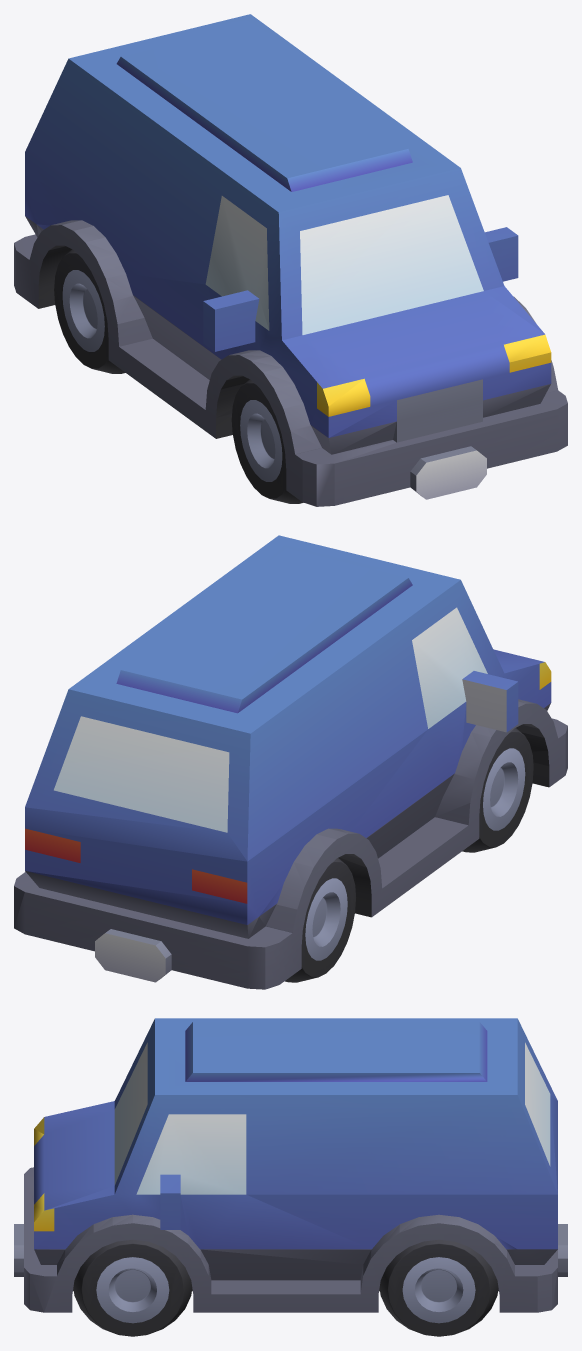
Rendered from van.glb.
3 renders of one model, top to bottom at view 1: azimuth 30°, elevation 25°; view 2: azimuth 150°, elevation 25°; view 3: azimuth 270°, elevation 25°, orthographic. The views are drawn at different scales.
Parts seen in each view (by area): view 1: body, wheel-back-right, wheel-front-right; view 2: body, wheel-back-right, wheel-front-right; view 3: body, wheel-front-left, wheel-back-left.
Part boxes in pixels (<box>): body: <box>14,14,567,506</box>; wheel-back-right: <box>54,249,125,373</box>; wheel-front-right: <box>231,379,303,503</box>; body: <box>14,535,567,989</box>; wheel-back-right: <box>285,858,356,982</box>; wheel-front-right: <box>462,728,533,852</box>; body: <box>14,1018,567,1312</box>; wheel-front-left: <box>73,1239,192,1336</box>; wheel-back-left: <box>379,1239,498,1336</box>.
Size of the model in its own units: 1.5 by 1.35 by 2.75.
5 materials, 5 textured.
